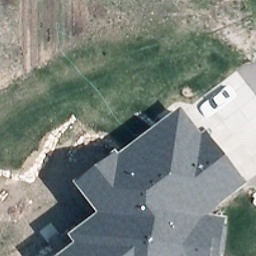car: (198, 84, 238, 120)
